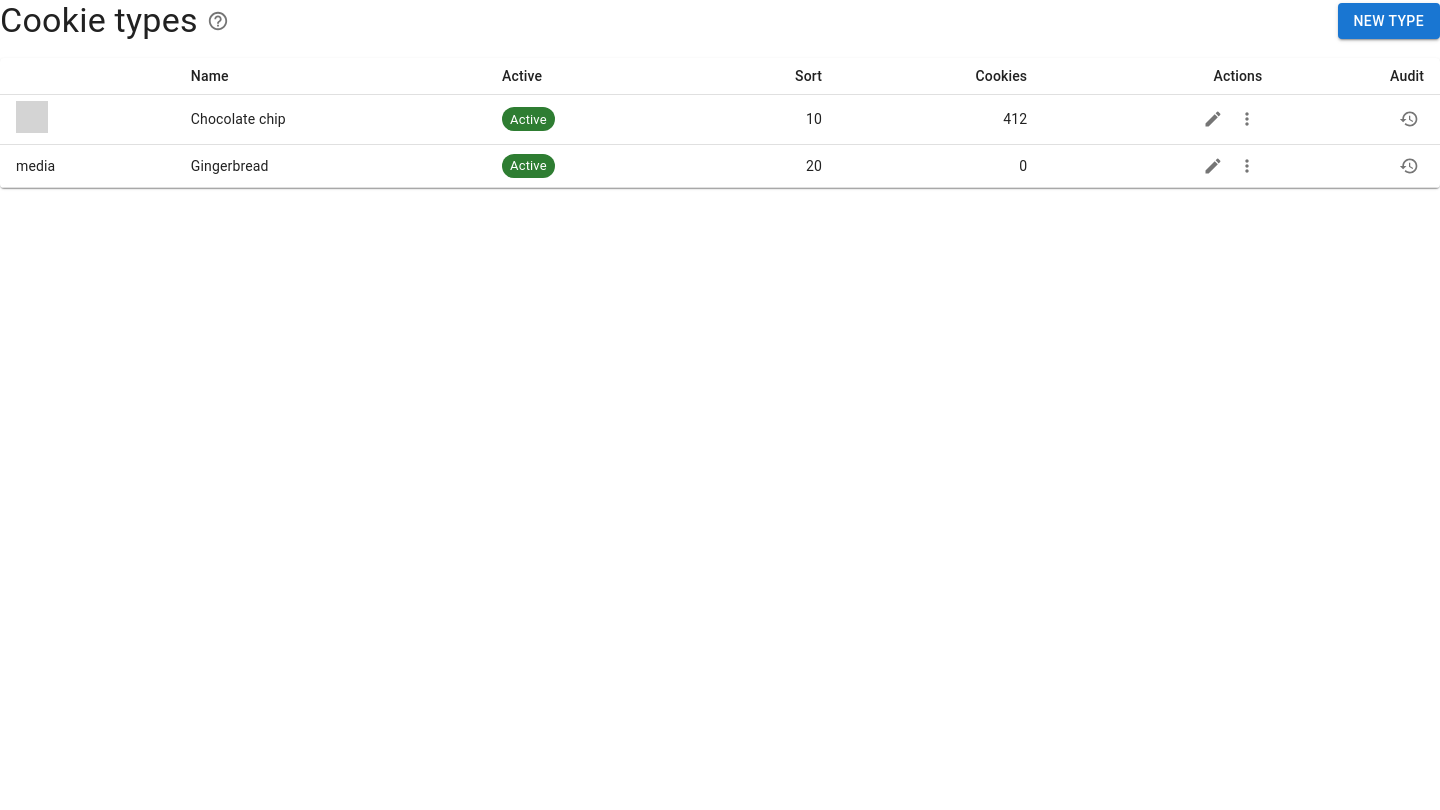
Test: CookieTypesList: locked while live › shows the banner on 409 event_live
Click the button with test id "cookie-type-new": point(1389, 21) [1338,3,1439,39]
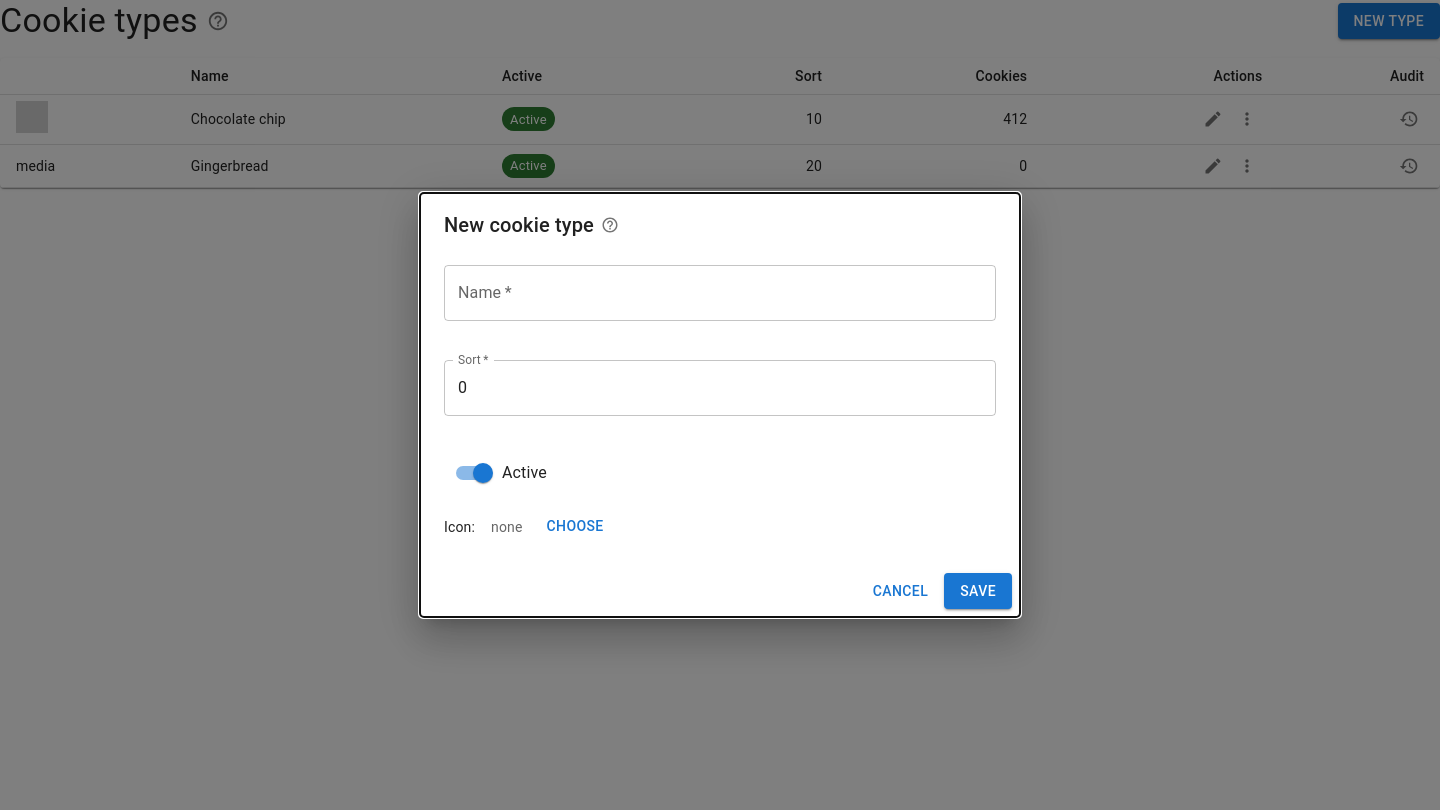
Fill the form so submit passes local validation.
In the field labelled "Name *": point(720, 293) [444,265,996,321], type "Molasses"
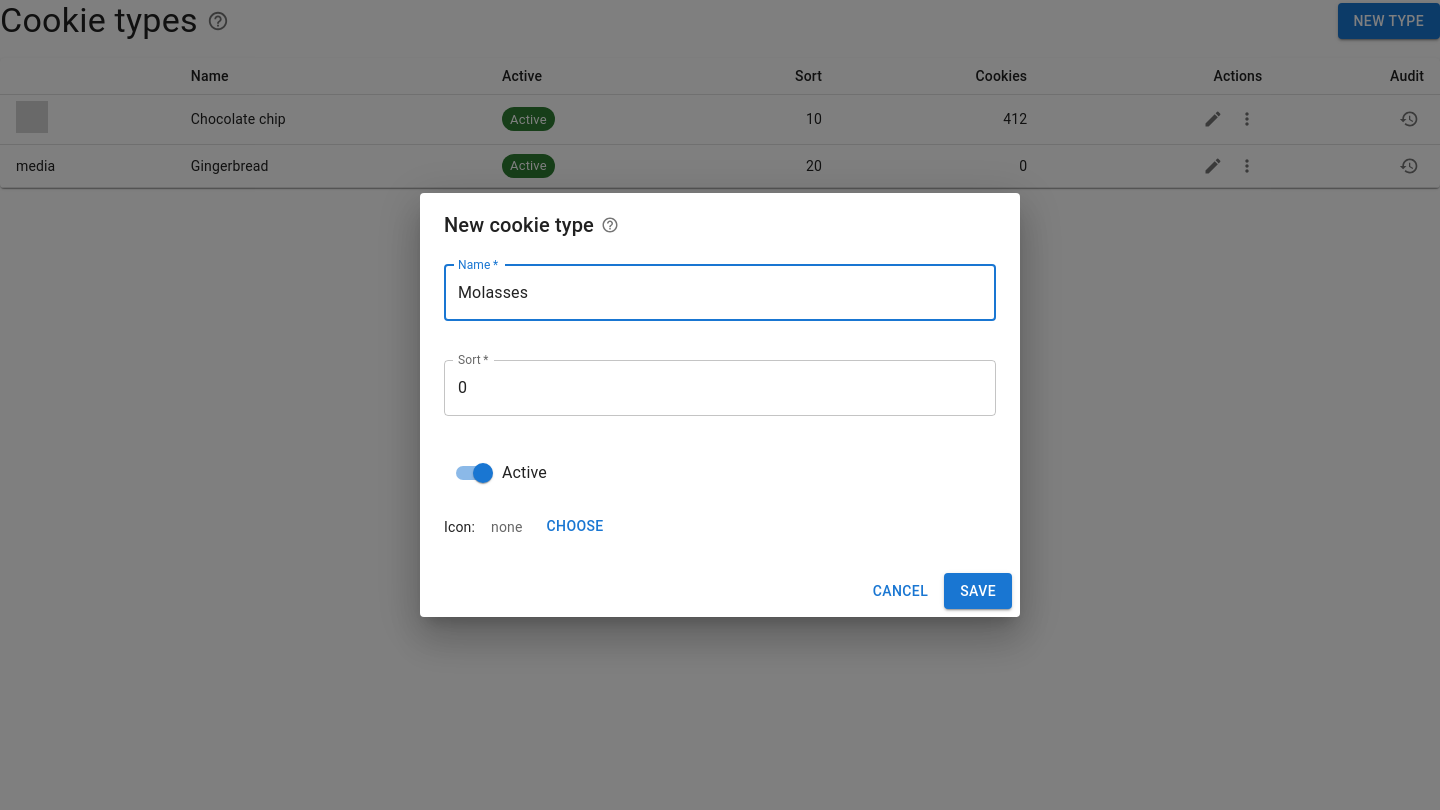
Click the button "Choose": point(575, 527) [538,508,612,545]
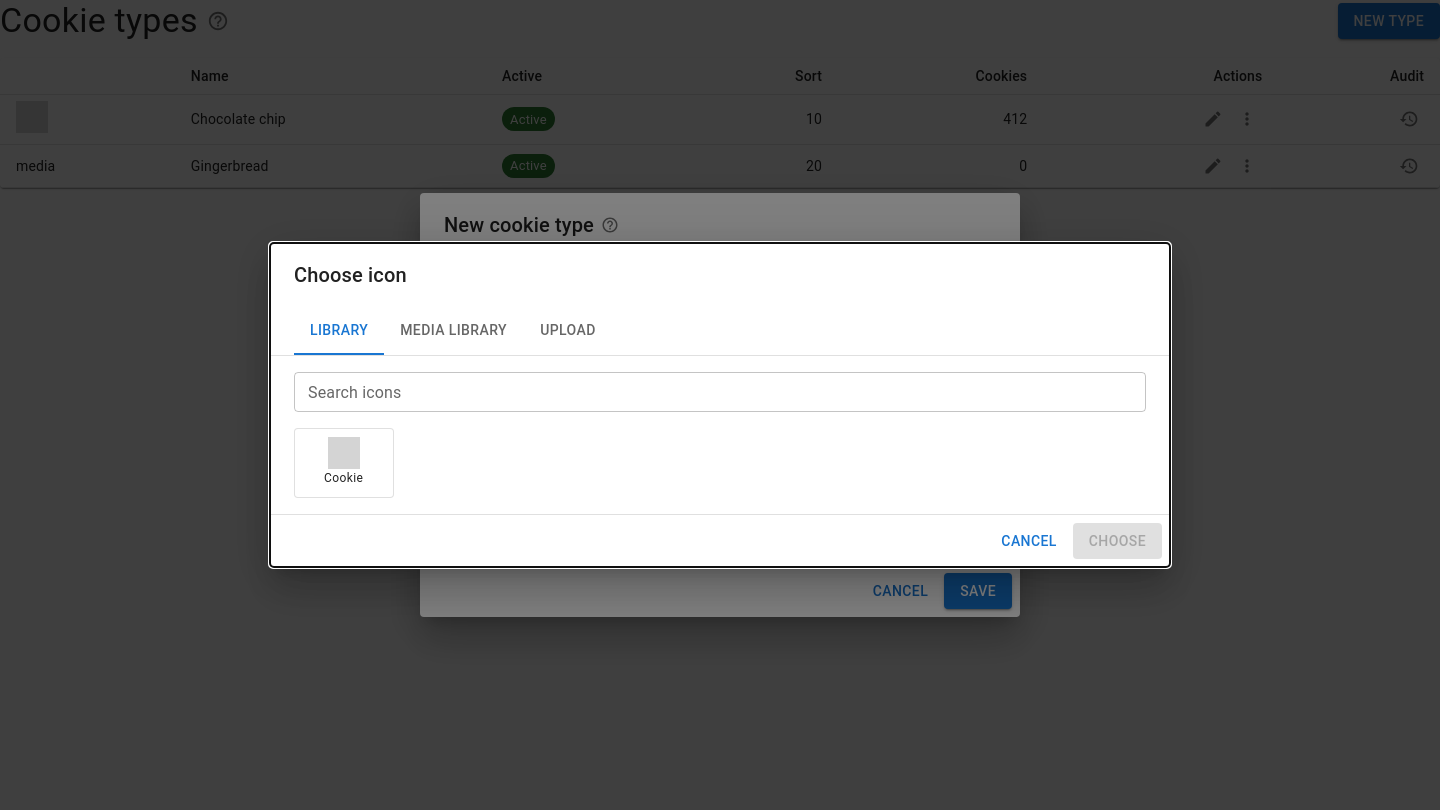
Click the button with test id "icon-tile-cookie": point(344, 463) [294,428,394,498]
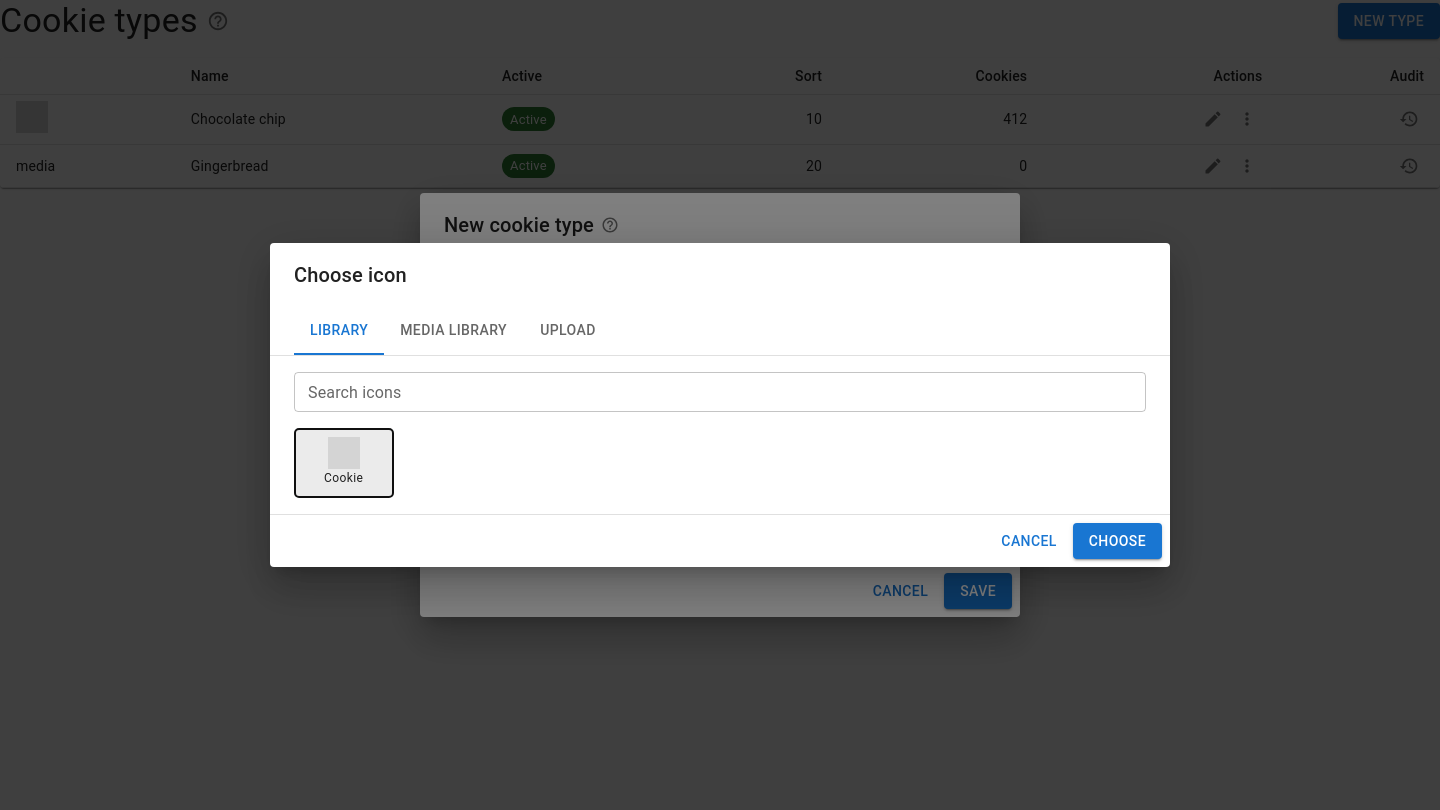
The picker's Choose confirms.
Click the button "Choose": point(1117, 541) [1073,523,1162,559]
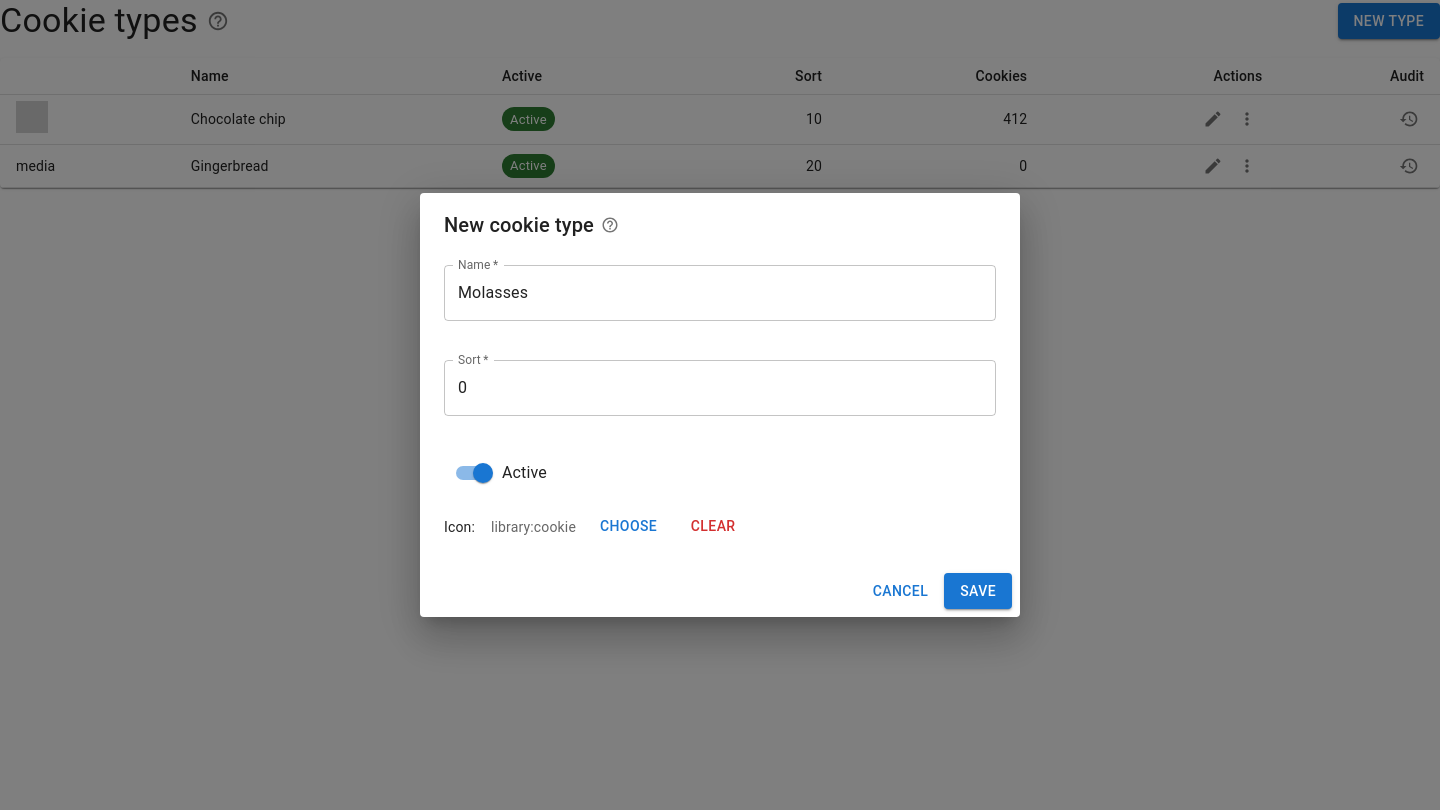
Click the button "Save": point(978, 591) [944,573,1012,609]
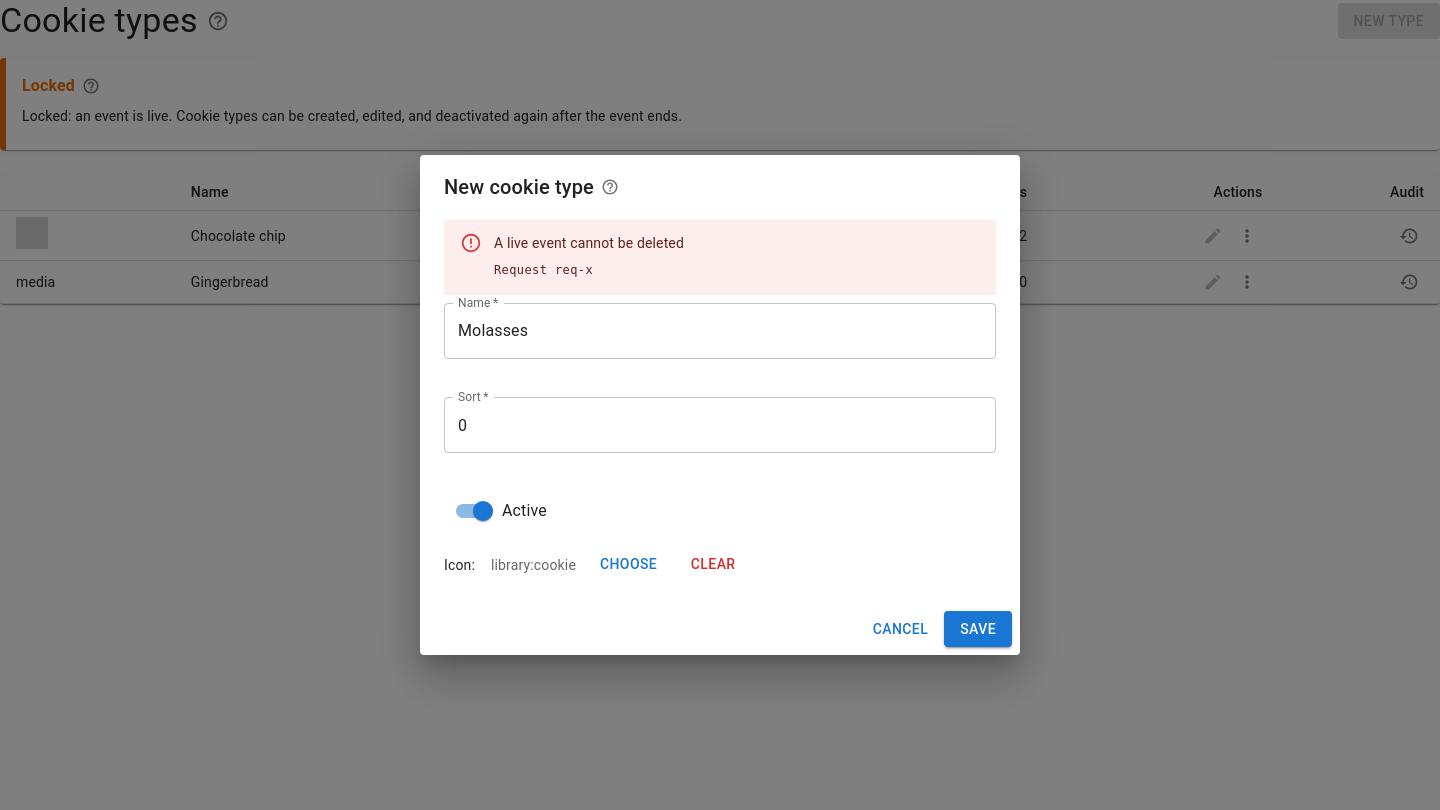
Expected: the text "Locked:" is shown, [22,108,682,124]
